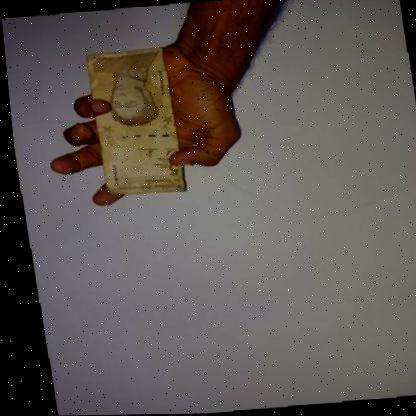five-front-vef: (83, 48, 183, 198)
